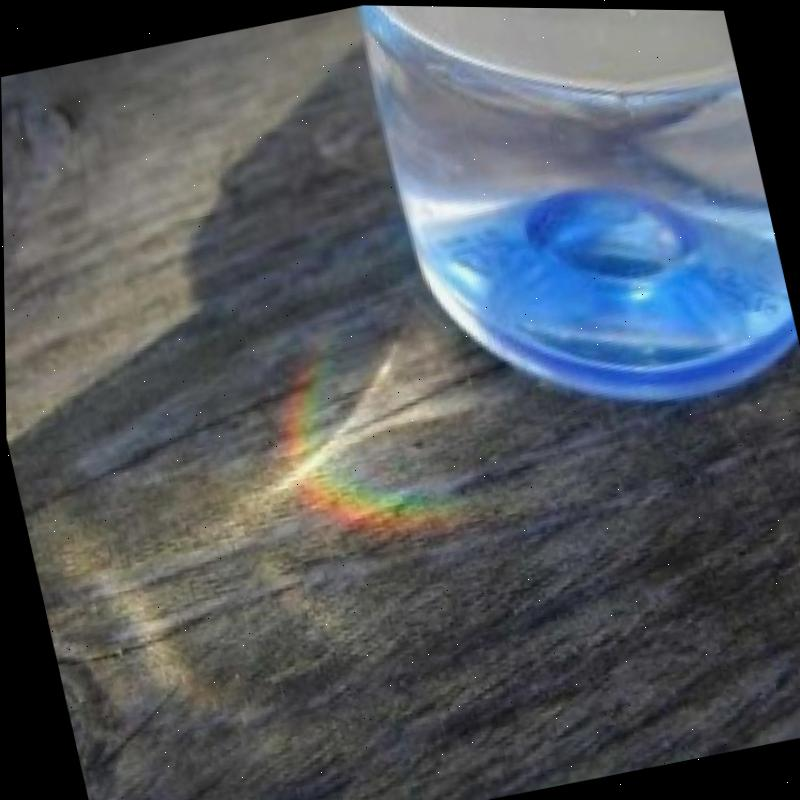botella: (350, 4, 800, 452)
